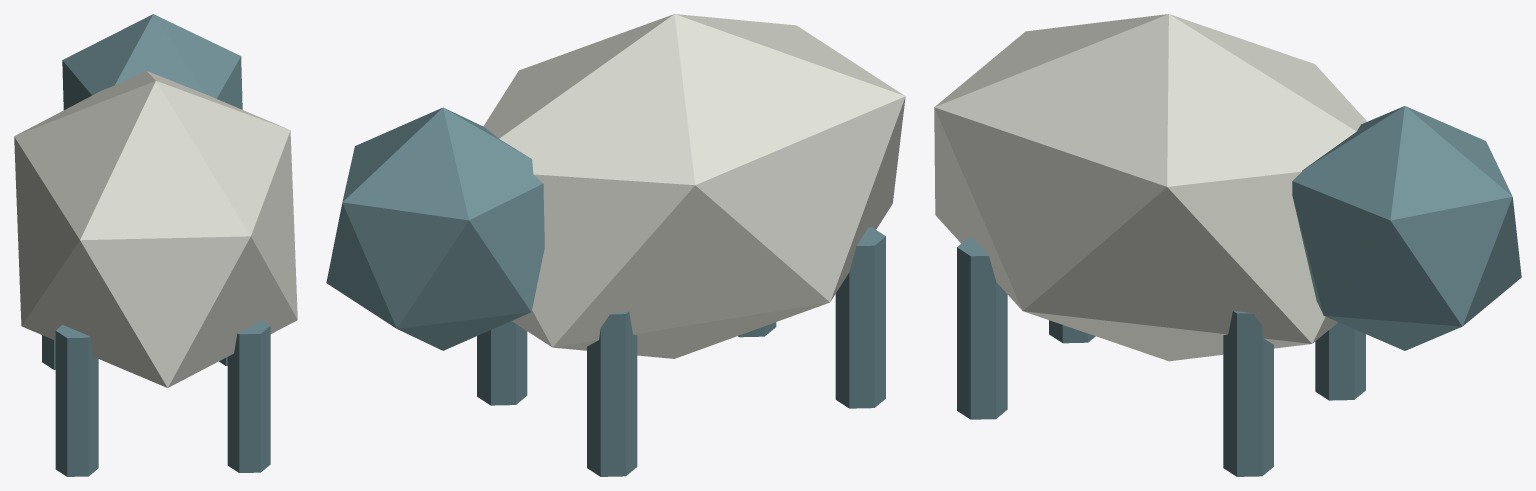
File: sheep_04.glb
3 views of the same model, side by side, from view 1: azimuth 30°, elevation 25°; view 2: azimuth 150°, elevation 25°; view 3: azimuth 270°, elevation 25° (orthographic). The views are drawn at different scales.
Parts seen in each view (by area): view 1: Sheep_04_Body.001, Sheep_04_Head.001, Sheep_04_Leg_1.001, Sheep_04_Leg_0.001, Sheep_04_Leg_3.001; view 2: Sheep_04_Body.001, Sheep_04_Head.001, Sheep_04_Leg_1.001, Sheep_04_Leg_3.001, Sheep_04_Leg_2.001; view 3: Sheep_04_Body.001, Sheep_04_Head.001, Sheep_04_Leg_0.001, Sheep_04_Leg_2.001, Sheep_04_Leg_3.001, Sheep_04_Leg_1.001.
Boxes of the visible parts, <box> form: Sheep_04_Body.001: <box>14,71,297,387</box>; Sheep_04_Head.001: <box>62,14,242,109</box>; Sheep_04_Leg_1.001: <box>55,325,98,476</box>; Sheep_04_Leg_0.001: <box>227,320,270,472</box>; Sheep_04_Leg_3.001: <box>42,335,55,369</box>; Sheep_04_Body.001: <box>483,14,905,358</box>; Sheep_04_Head.001: <box>326,107,544,350</box>; Sheep_04_Leg_1.001: <box>835,227,885,408</box>; Sheep_04_Leg_3.001: <box>587,311,637,476</box>; Sheep_04_Leg_2.001: <box>477,321,527,405</box>; Sheep_04_Body.001: <box>934,14,1367,361</box>; Sheep_04_Head.001: <box>1292,106,1521,350</box>; Sheep_04_Leg_0.001: <box>957,237,1007,419</box>; Sheep_04_Leg_2.001: <box>1223,311,1273,476</box>; Sheep_04_Leg_3.001: <box>1315,322,1365,400</box>; Sheep_04_Leg_1.001: <box>1049,320,1095,343</box>.
Size of the model in its own units: 0.7624 by 0.76 by 1.04.
